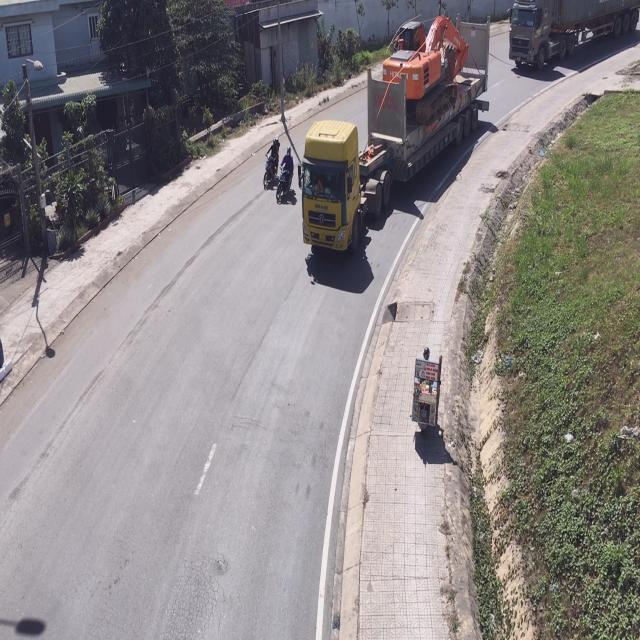motorbike: (411, 348, 441, 434), (264, 136, 280, 190), (278, 148, 293, 205)
truck: (299, 16, 495, 260), (508, 0, 640, 77)
